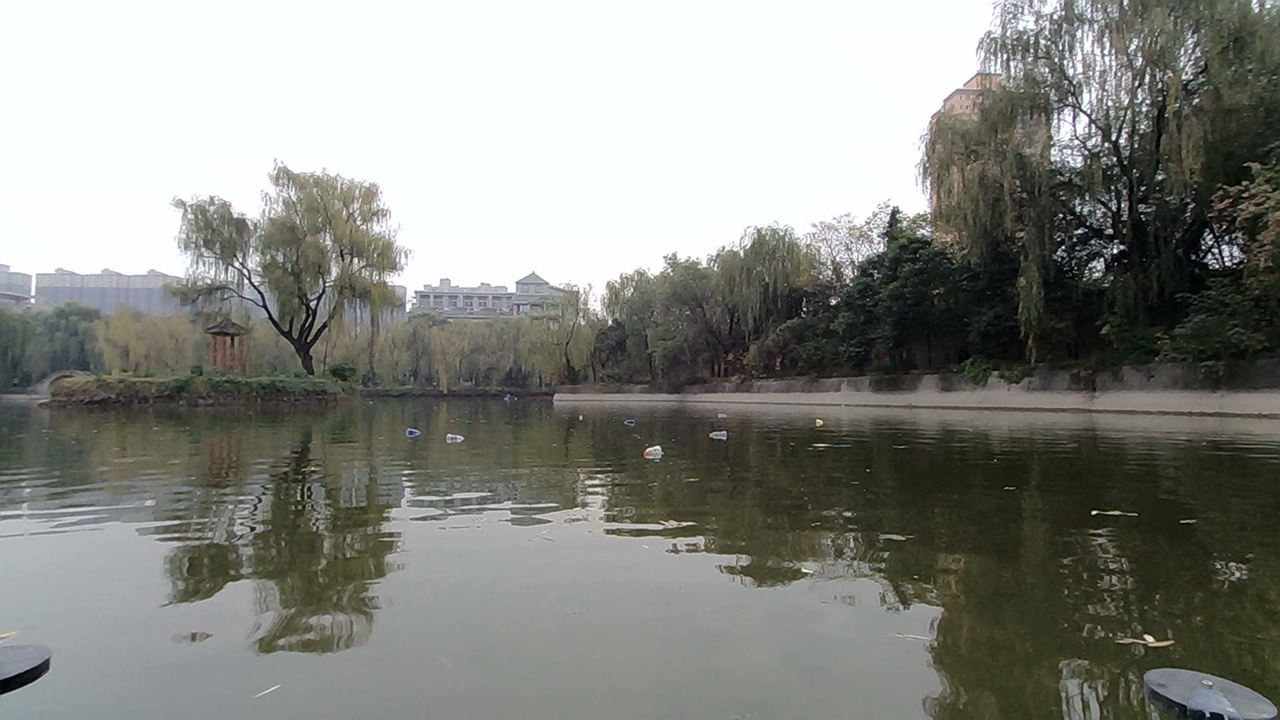bottle: (704, 416, 738, 446), (443, 421, 473, 448), (568, 404, 595, 430), (403, 422, 427, 449), (619, 404, 644, 428), (639, 443, 667, 464), (808, 411, 830, 435)
